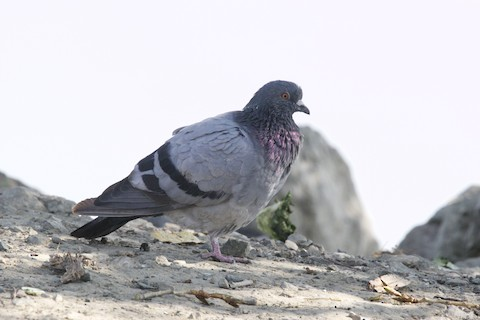pigeon: (66, 75, 315, 265)
